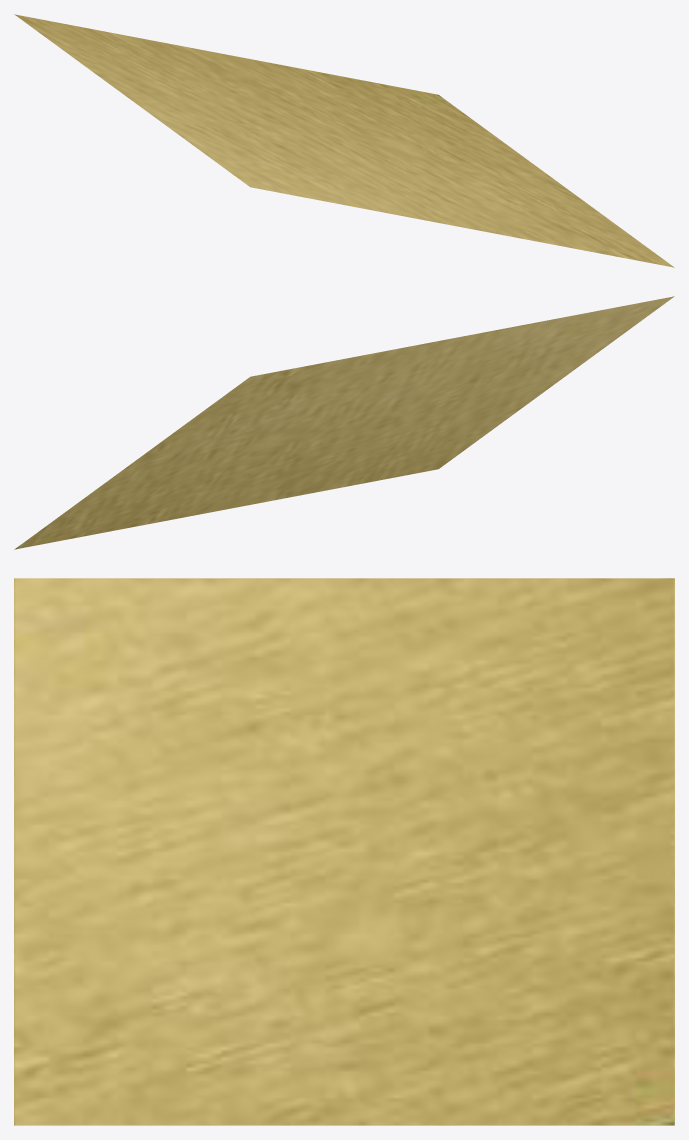
The picture shows the model from 3 angles, top to bottom: view 1: azimuth 30°, elevation 25°; view 2: azimuth 150°, elevation 25°; view 3: azimuth 270°, elevation 25°; orthographic projection. The views are drawn at different scales.
Visible parts, largest first — view 1: 4_base__material_5_32_8; view 2: 4_base__material_5_32_8; view 3: 4_base__material_5_32_8.
Part boxes in pixels (<box>): 4_base__material_5_32_8: <box>14,14,674,267</box>; 4_base__material_5_32_8: <box>14,296,674,549</box>; 4_base__material_5_32_8: <box>14,578,674,1125</box>.
Size of the model in its own units: 0.000383 by 0.000159 by 0.000369.
Materials: 1 (1 with a texture image).
